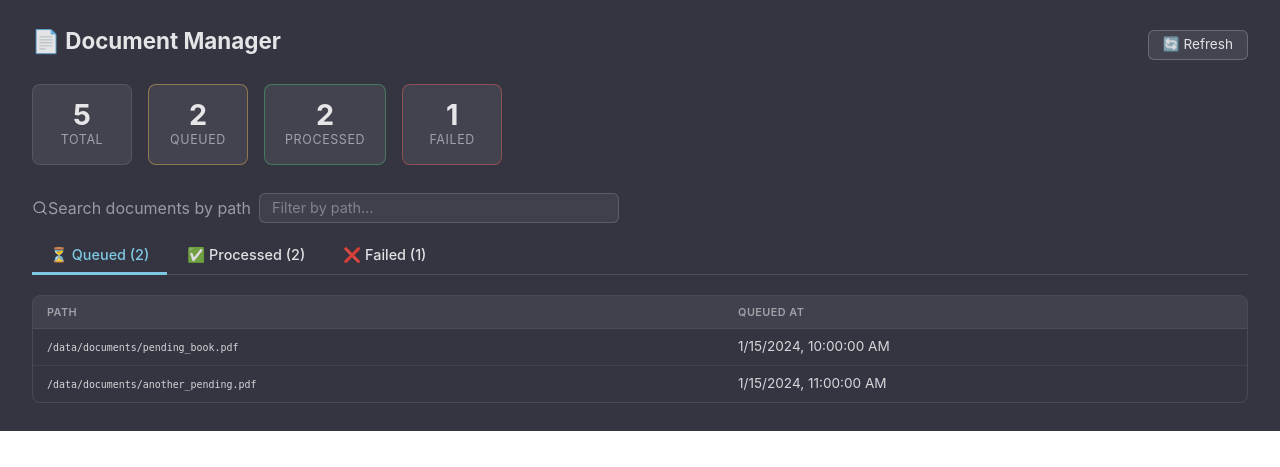
Test case: AdminDocumentsPage › shows requeue all with confirmation on failed tab
The width and height of the screenshot is (1280, 467).
Step 1. Click the tab "❌ Failed (1)" → (385, 257), box 325,239 -> 444,275
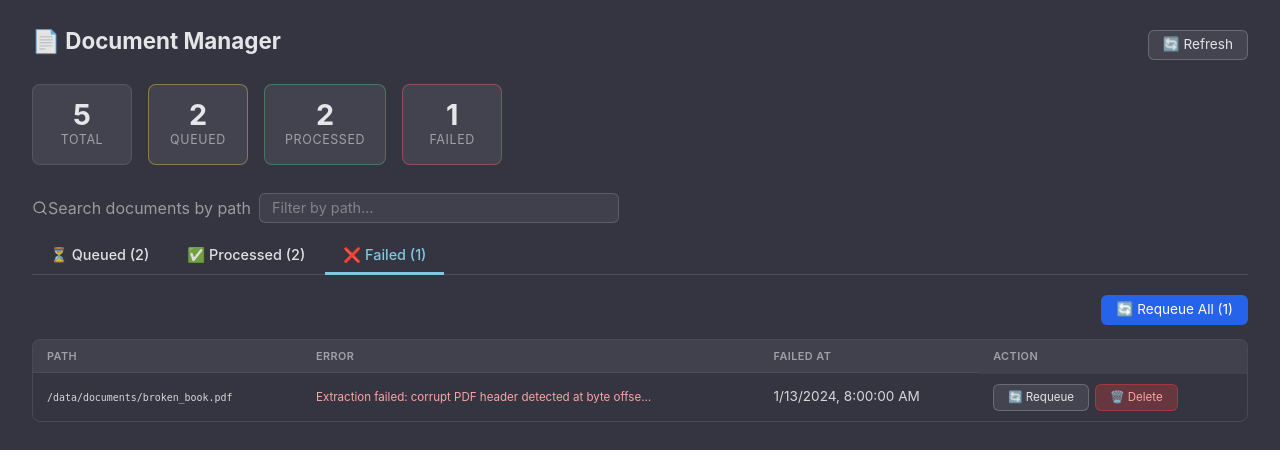
Result: the button "🔄 Requeue All (1)" is shown
Step 2. Click the button "🔄 Requeue All (1)" → (1175, 310), box 1101,295 -> 1248,324
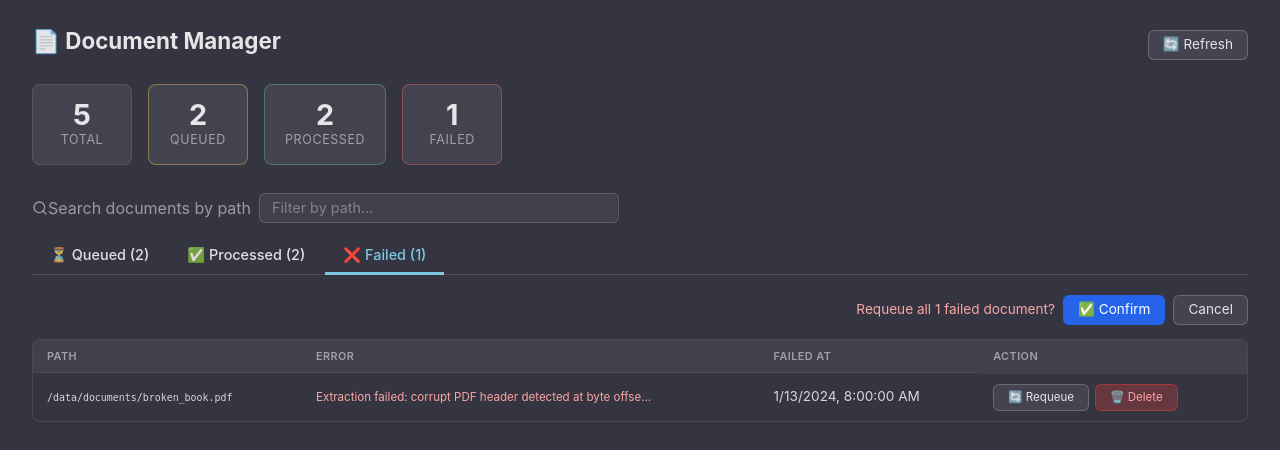
Result: the text "Requeue all 1 failed document?" is shown at 856,302 -> 1055,318
